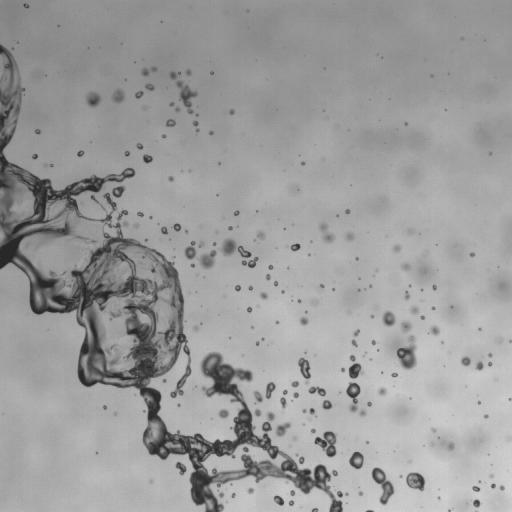droplet: (396, 335, 416, 369), (314, 431, 336, 457), (347, 355, 363, 378), (406, 472, 425, 490), (198, 250, 216, 268), (349, 451, 363, 469), (184, 241, 196, 259), (86, 92, 100, 107), (275, 422, 290, 436), (382, 311, 395, 326), (265, 382, 275, 398), (112, 89, 124, 102), (175, 461, 186, 475), (400, 321, 411, 333), (253, 390, 262, 402), (143, 154, 153, 163), (461, 356, 470, 366), (322, 400, 332, 409), (218, 409, 228, 418), (274, 495, 283, 505), (289, 243, 300, 251), (430, 326, 439, 335), (257, 230, 265, 239), (401, 263, 410, 271), (299, 317, 308, 325), (141, 68, 149, 76), (173, 223, 181, 231), (410, 306, 418, 314), (378, 387, 386, 395), (473, 499, 481, 507), (170, 72, 179, 79), (166, 119, 175, 126), (476, 361, 483, 370), (135, 91, 143, 98), (346, 233, 353, 241), (447, 442, 454, 450), (145, 84, 154, 90), (260, 292, 267, 299), (161, 226, 167, 234), (393, 245, 401, 251), (292, 185, 299, 191), (291, 381, 298, 387), (359, 409, 365, 416), (404, 291, 409, 299), (77, 150, 83, 156), (351, 340, 357, 346), (308, 408, 314, 414), (472, 486, 479, 491), (186, 69, 191, 75), (34, 129, 40, 134), (137, 143, 142, 149), (265, 274, 270, 280), (354, 330, 359, 336), (293, 392, 299, 397), (289, 490, 295, 495), (289, 500, 294, 506), (229, 109, 234, 114), (124, 151, 129, 156), (32, 154, 37, 159), (168, 176, 173, 181), (234, 210, 239, 215), (235, 285, 240, 290), (247, 307, 252, 312), (392, 372, 397, 377), (310, 428, 315, 433), (248, 488, 253, 493), (137, 212, 143, 216), (90, 239, 96, 243), (151, 67, 156, 71), (345, 209, 350, 213), (199, 242, 203, 247), (470, 252, 474, 257), (268, 265, 273, 269), (248, 286, 253, 290), (491, 483, 495, 488), (500, 485, 504, 490), (311, 508, 317, 511), (175, 107, 179, 111), (162, 134, 166, 138), (228, 226, 232, 230), (432, 285, 436, 289), (420, 315, 424, 319), (194, 326, 198, 330), (371, 340, 375, 344), (488, 353, 492, 357), (341, 368, 345, 372), (367, 402, 371, 406), (484, 414, 488, 418), (358, 491, 362, 495), (499, 338, 502, 343), (24, 4, 28, 7), (170, 102, 173, 106), (209, 131, 213, 134), (134, 224, 138, 227), (274, 281, 277, 285), (320, 284, 323, 288), (313, 299, 316, 303), (103, 405, 106, 409), (302, 409, 306, 412), (432, 427, 435, 431), (508, 436, 511, 440), (231, 493, 235, 496), (301, 162, 304, 165), (185, 230, 188, 233), (191, 264, 194, 267), (256, 342, 259, 345), (488, 362, 491, 365), (163, 379, 166, 382), (26, 243, 28, 247), (298, 299, 300, 302), (432, 307, 435, 309), (371, 315, 373, 318), (509, 339, 511, 342), (490, 474, 492, 477), (409, 231, 411, 233), (213, 243, 215, 245), (276, 321, 278, 323), (509, 398, 511, 400), (478, 401, 480, 403), (294, 437, 296, 439), (399, 475, 401, 477)
ligament: (0, 44, 342, 511), (219, 238, 258, 267), (371, 467, 394, 505), (176, 80, 197, 113), (346, 382, 360, 412), (298, 357, 310, 383), (319, 223, 335, 242), (308, 386, 325, 396), (280, 389, 287, 408), (193, 121, 199, 132), (91, 195, 99, 203), (102, 206, 105, 210), (366, 510, 373, 511), (448, 510, 451, 511)
